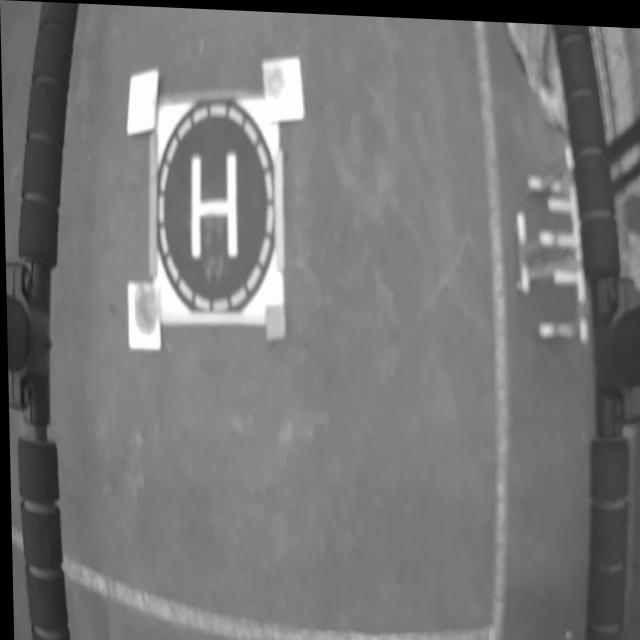Helipad: (190, 153, 236, 257)
